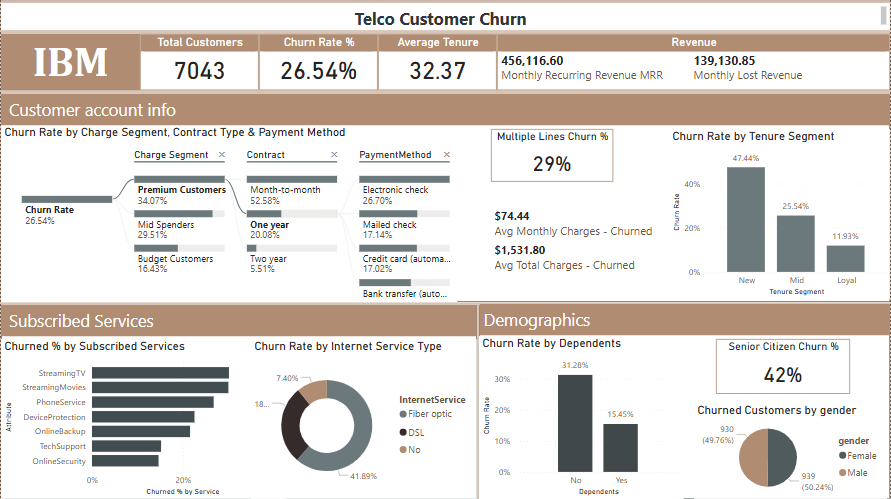

The page's visual inventory and layout, read from the dashboard file:
{"tool":"powerbi","page":{"name":"Page 3","canvas":[1280,720],"ordinal":2},"visuals":[{"type":"shape","box":[0,136.8,1280.2,299.5],"z":0},{"type":"textbox","box":[0,5.8,1280.2,38.9],"z":1000},{"type":"card","title":"Churn Rate %","fields":{"Values":["Measures Table.Churn Rate"]},"box":[371.5,50.4,171.4,80.6],"z":2000},{"type":"card","title":"Average Tenure","fields":{"Values":["Measures Table.Average Tenure"]},"box":[542.9,50.4,171.4,80.6],"z":3000},{"type":"shape","box":[0,440.6,685,279.4],"z":4000},{"type":"shape","box":[688.3,440.6,592,279.4],"z":5000},{"type":"clusteredBarChart","title":"Churned % by Subscribed Services","fields":{"Category":["Services_Table.Attribute"],"Y":["Measures Table.Churned % by Service"]},"box":[0,489.6,410.4,230.4],"z":6000},{"type":"donutChart","title":"Churn Rate by Internet Service Type","fields":{"Category":["Customer_Churn.InternetService"],"Y":["Measures Table.Churn Rate"]},"box":[360,489.6,325.4,230.4],"z":7000},{"type":"decompositionTreeVisual","title":"Churn Rate by Charge Segment, Contract Type & Payment Method","fields":{"ExplainBy":["Customer_Churn.Charge Segment","Customer_Churn.Contract","Customer_Churn.PaymentMethod"],"Analyze":["Measures Table.Churn Rate"]},"box":[0,181.4,656.6,254.9],"z":8000},{"type":"clusteredColumnChart","fields":{"Category":["Customer_Churn.Tenure Segment"],"Y":["Measures Table.Churn Rate"]},"box":[961.9,187.2,318.2,244.8],"z":9000},{"type":"card","title":"Multiple Lines Churn %","fields":{"Values":["Measures Table.Multiple Lines"]},"box":[705.6,187.2,175.7,76.3],"z":10000},{"type":"multiRowCard","fields":{"Values":["Measures Table.Avg Monthly Charges - Churned","Measures Table.Avg Total Charges - Churned"]},"box":[705.6,296.6,246.2,135.4],"z":11000},{"type":"pieChart","fields":{"Category":["Customer_Churn.gender"],"Y":["Measures Table.Churned Customers"]},"box":[997.9,581.8,277.9,138.2],"z":12000},{"type":"columnChart","fields":{"Y":["Measures Table.Churn Rate"],"Category":["Customer_Churn.Dependents"]},"box":[688.3,485.3,295.2,234.7],"z":13000},{"type":"card","title":"Senior Citizen Churn %","fields":{"Values":["Measures Table.Senior Citizen Churn %"]},"box":[1029.6,489.6,193,79.2],"z":14000},{"type":"card","title":"Total Customers ","fields":{"Values":["Measures Table.Total Customers"]},"box":[200.2,50.4,171.4,80.6],"z":15000},{"type":"multiRowCard","title":"Revenue","fields":{"Values":["Measures Table.Monthly Recurring Revenue MRR","Measures Table.Monthly Lost Revenue"]},"box":[714.2,50.4,565.9,80.6],"z":16000},{"type":"textbox","box":[0,440.6,685.4,44.6],"z":17000},{"type":"textbox","box":[0,136.8,1280.2,44.6],"z":18000},{"type":"textbox","box":[689.8,439.2,590.4,44.6],"z":19000},{"type":"textbox","box":[0,50.4,200.2,80.6],"z":20000}]}

Visuals, with their boxes in screenshot pixels (x1, y1, x2, y2), scaled from the page's 1280x720 canvas onto the 891x499 screenshot:
shape: (left=0, top=95, right=890, bottom=302)
textbox: (left=0, top=4, right=890, bottom=31)
"Churn Rate %" card: (left=259, top=35, right=378, bottom=91)
"Average Tenure" card: (left=378, top=35, right=497, bottom=91)
shape: (left=0, top=305, right=477, bottom=498)
shape: (left=479, top=305, right=890, bottom=498)
"Churned % by Subscribed Services" clusteredBarChart: (left=0, top=339, right=286, bottom=498)
"Churn Rate by Internet Service Type" donutChart: (left=251, top=339, right=477, bottom=498)
"Churn Rate by Charge Segment, Contract Type & Payment Method" decompositionTreeVisual: (left=0, top=126, right=457, bottom=302)
clusteredColumnChart - Customer_Churn.Tenure Segment x Measures Table.Churn Rate: (left=670, top=130, right=890, bottom=299)
"Multiple Lines Churn %" card: (left=491, top=130, right=613, bottom=183)
multiRowCard - Measures Table.Avg Monthly Charges - Churned x Measures Table.Avg Total Charges - Churned: (left=491, top=206, right=663, bottom=299)
pieChart - Customer_Churn.gender x Measures Table.Churned Customers: (left=695, top=403, right=888, bottom=498)
columnChart - Measures Table.Churn Rate x Customer_Churn.Dependents: (left=479, top=336, right=685, bottom=498)
"Senior Citizen Churn %" card: (left=717, top=339, right=851, bottom=394)
"Total Customers " card: (left=139, top=35, right=259, bottom=91)
"Revenue" multiRowCard: (left=497, top=35, right=890, bottom=91)
textbox: (left=0, top=305, right=477, bottom=336)
textbox: (left=0, top=95, right=890, bottom=126)
textbox: (left=480, top=304, right=890, bottom=335)
textbox: (left=0, top=35, right=139, bottom=91)
